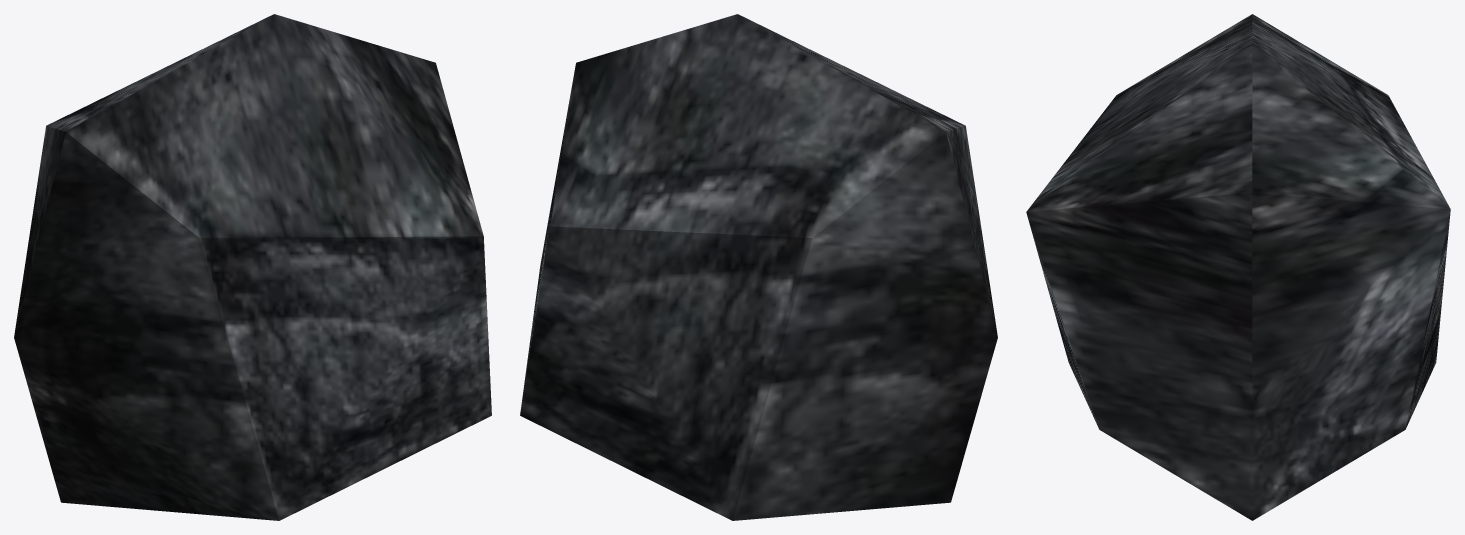
The model's file is Flybigstone1.glb.
3 renders of one model, left to right at view 1: azimuth 30°, elevation 25°; view 2: azimuth 150°, elevation 25°; view 3: azimuth 270°, elevation 25°, orthographic. The views are drawn at different scales.
Visible parts, largest first — view 1: model_Flybigstone1; view 2: model_Flybigstone1; view 3: model_Flybigstone1.
Boxes of the visible parts, bbox=[...] form: model_Flybigstone1: bbox=[14, 14, 491, 520]; model_Flybigstone1: bbox=[520, 14, 997, 520]; model_Flybigstone1: bbox=[1026, 14, 1450, 520].
Size of the model in its own units: 1.19 by 1.22 by 1.06.
1 material, 1 textured.
